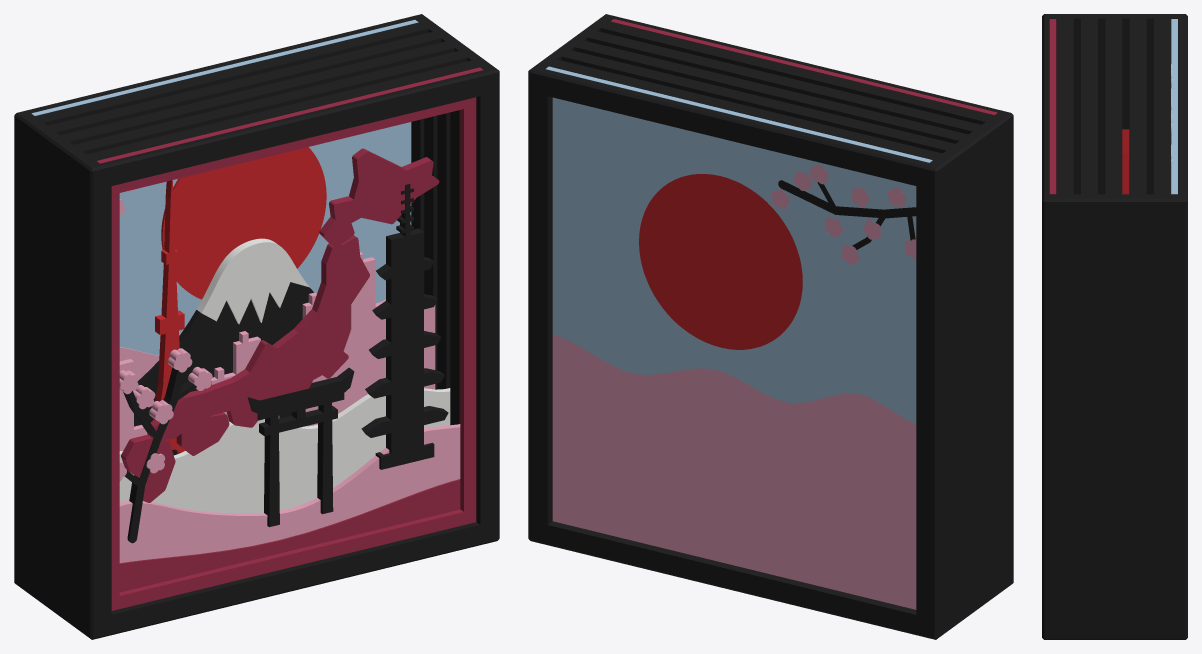
The model's file is japan_shadow_box.glb.
3 renders of one model, left to right at view 1: azimuth 30°, elevation 25°; view 2: azimuth 150°, elevation 25°; view 3: azimuth 270°, elevation 25°, orthographic. The views are drawn at different scales.
Parts seen in each view (by area): view 1: japan_shadow_box (×6); view 2: japan_shadow_box (×5); view 3: japan_shadow_box (×4).
Boxes of the visible parts, x1,y1,x2,y2 form: japan_shadow_box (×6): (14, 14, 499, 639); japan_shadow_box (×5): (528, 14, 1013, 639); japan_shadow_box (×4): (1042, 14, 1187, 639).
Bounding box in the file's own units: 0.2 × 0.22 × 0.066.
